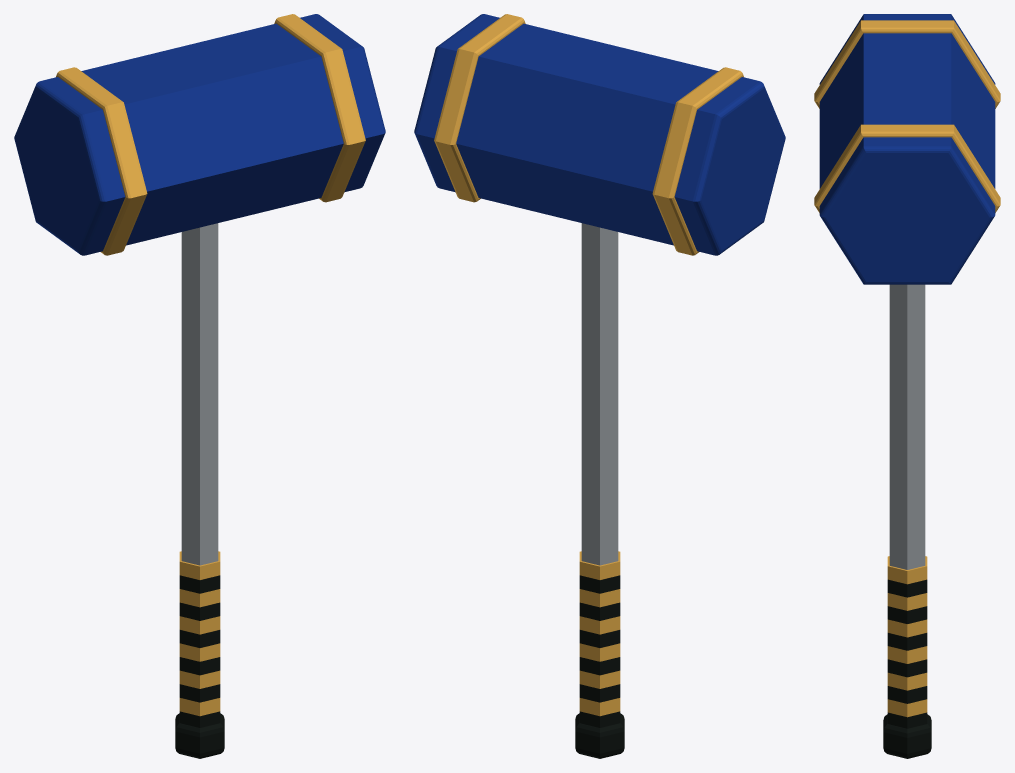
File: hammer_midaru.fbx
3 renders of one model, left to right at view 1: azimuth 30°, elevation 25°; view 2: azimuth 150°, elevation 25°; view 3: azimuth 270°, elevation 25°, orthographic. The views are drawn at different scales.
Parts seen in each view (by area): view 1: midaru_hammer; view 2: midaru_hammer; view 3: midaru_hammer.
Boxes of the visible parts, x1,y1,x2,y2 form: midaru_hammer: (14, 14, 385, 758); midaru_hammer: (414, 14, 785, 758); midaru_hammer: (814, 14, 1000, 758).
Bounding box in the file's own units: 1.1 × 2.54 × 0.636.
